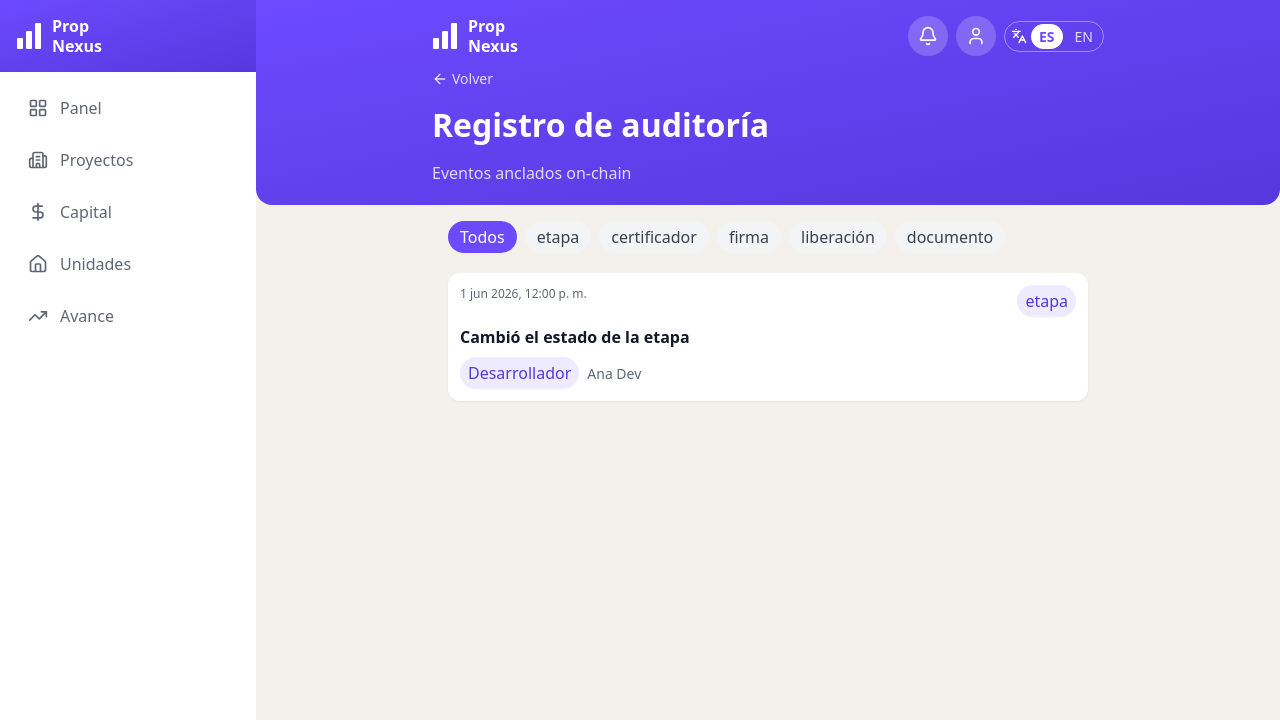
it: /developer/audit-log › filtrar por una categoría sin eventos muestra el vacío
The image size is (1280, 720).
Click the button "firma" at (749, 237), box [717,221,781,253]
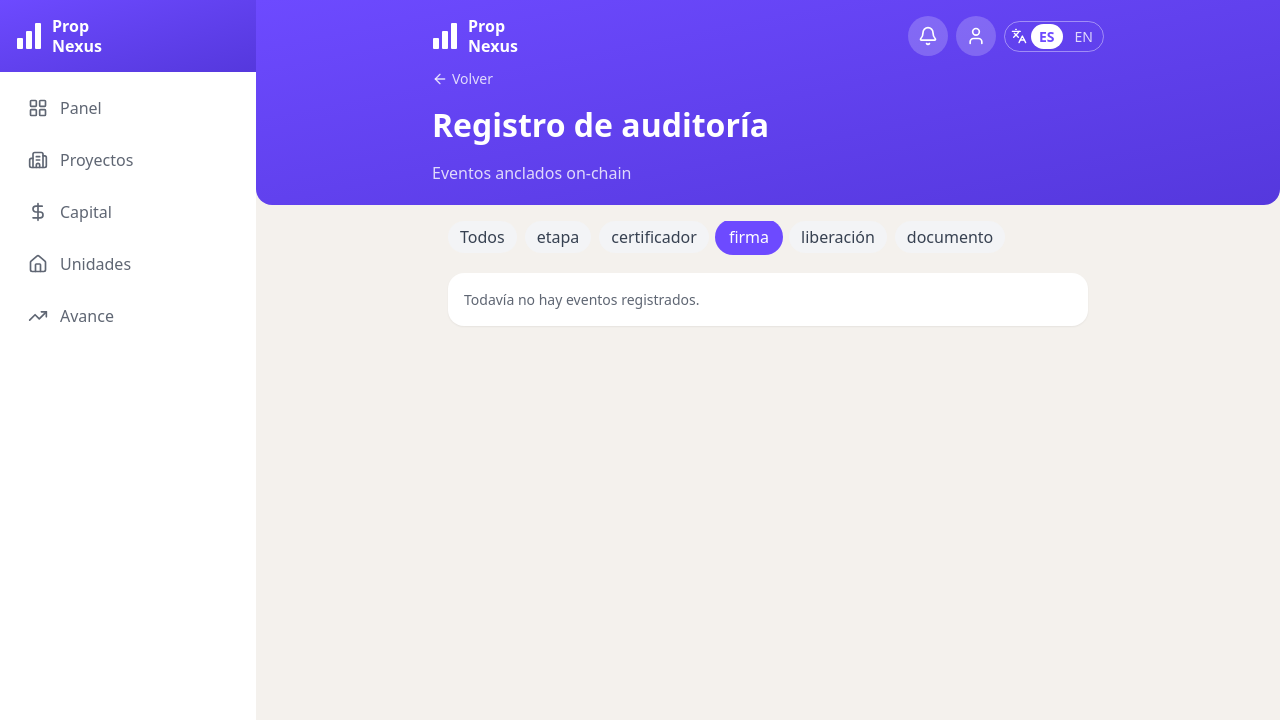
Expected: the text "Todavía no hay eventos registrados." is shown, [448,273,1088,326]
